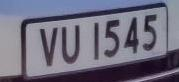1: (87, 17, 104, 64)
4: (122, 12, 144, 60)
5: (102, 14, 123, 62), (140, 10, 160, 57)
U: (60, 21, 84, 68)
V: (36, 23, 62, 70)
